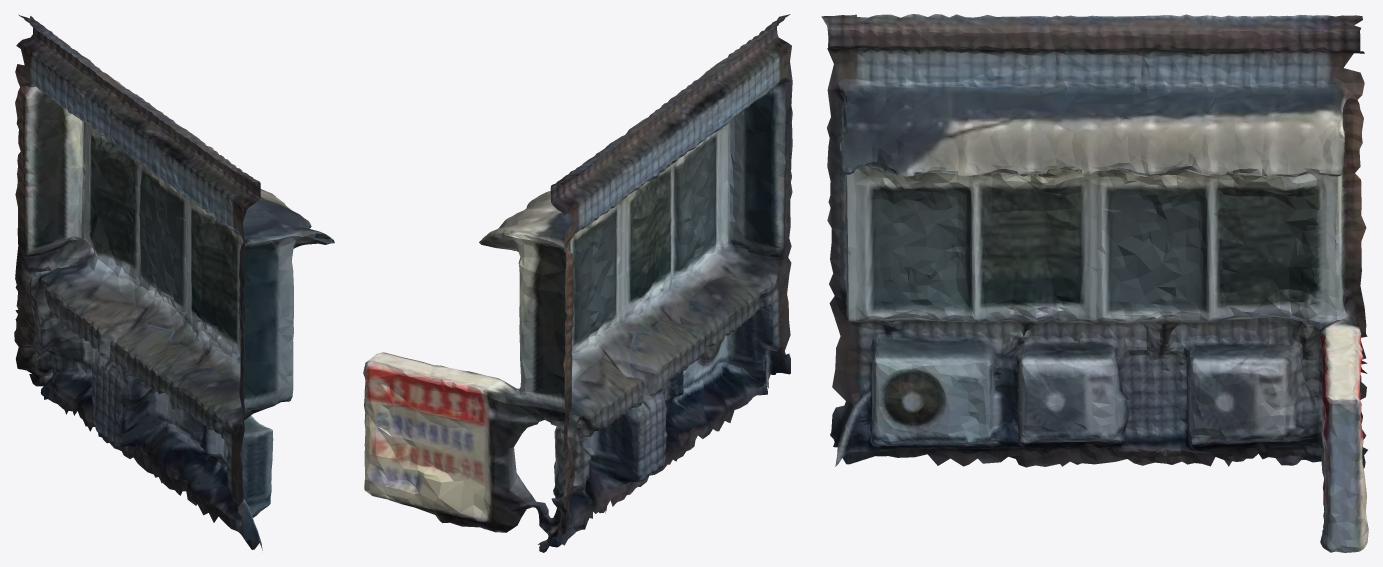
3 views of the same model, side by side, from view 1: azimuth 30°, elevation 25°; view 2: azimuth 150°, elevation 25°; view 3: azimuth 270°, elevation 25° (orthographic). The views are drawn at different scales.
Parts seen in each view (by area): view 1: 3dscan2; view 2: 3dscan2; view 3: 3dscan2.
Boxes of the visible parts, x1,y1,x2,y2 form: 3dscan2: (14,14,334,550); 3dscan2: (363,14,792,552); 3dscan2: (821,14,1368,552).
Bounding box in the file's own units: 0.5716 × 0.999 × 1.12.
Materials: 1 (1 with a texture image).
